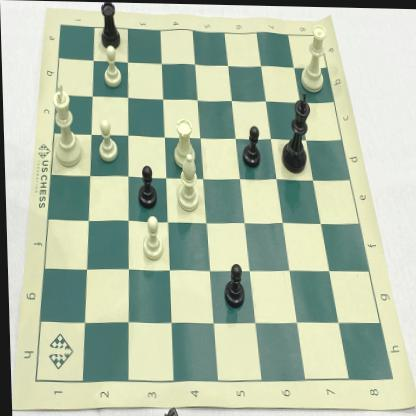black-king: (275, 87, 314, 177)
black-pawn: (133, 160, 159, 210), (238, 120, 264, 170), (221, 259, 246, 310)
black-rook: (97, 2, 123, 53)
white-bishop: (174, 151, 202, 216)
white-king: (47, 79, 86, 171)
white-pawn: (138, 212, 165, 262), (99, 40, 126, 89), (94, 113, 119, 165)
white-queen: (295, 20, 331, 95)
white-rook: (168, 112, 200, 172)
